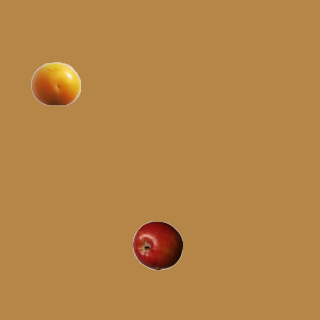Apple Braeburn: (132, 220, 182, 270)
Cherry Wax Yellow: (30, 58, 80, 108)
